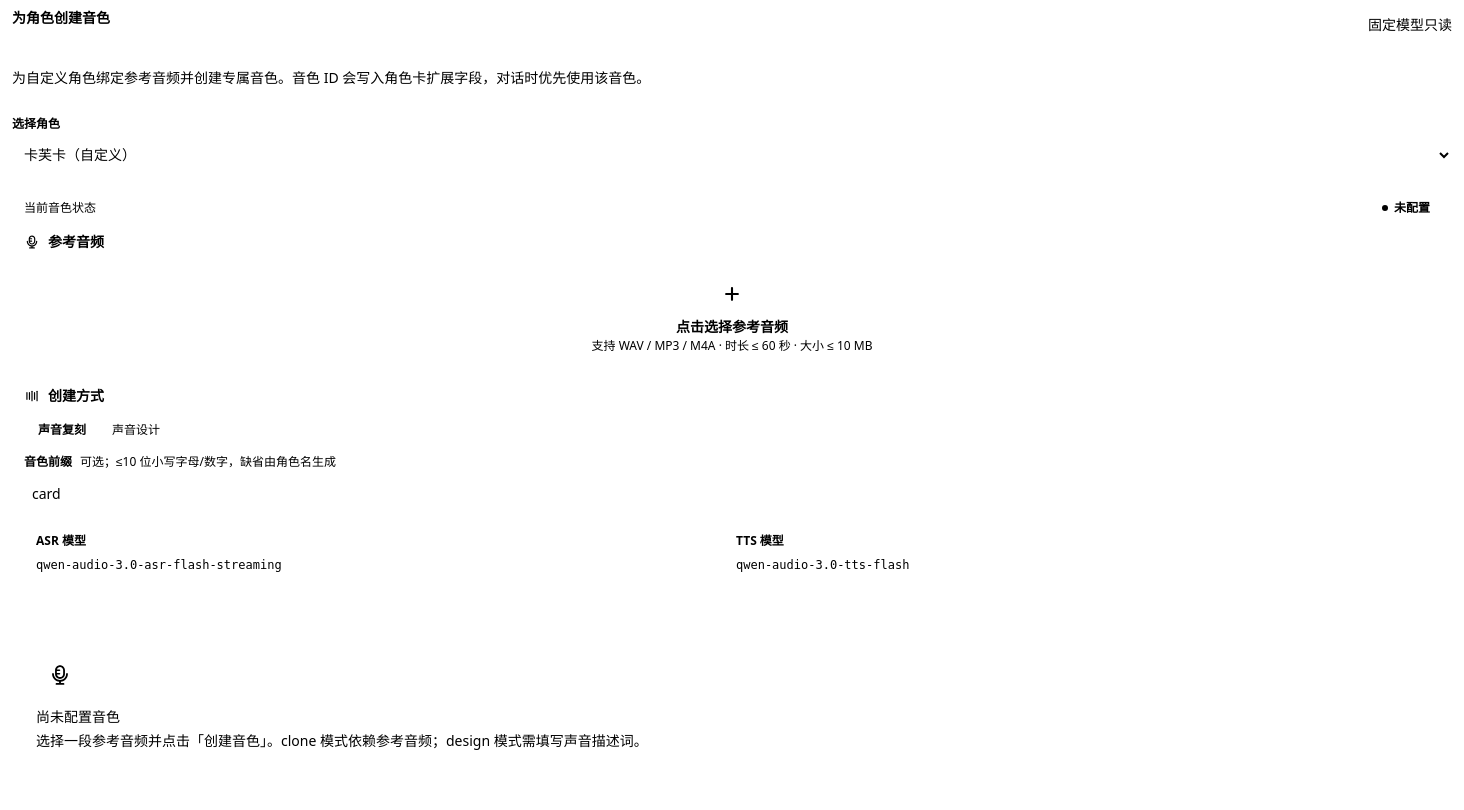
Test case: CharacterVoiceSection › 选择参考音频后经 voice.card_bind_reference 绑定并显示资产 ID
Expected: the field with test id "prefix-input" holds "card", [24,476,1440,510]
Click the button with test id "pick-reference-btn": (732, 317) [24,260,1440,374]
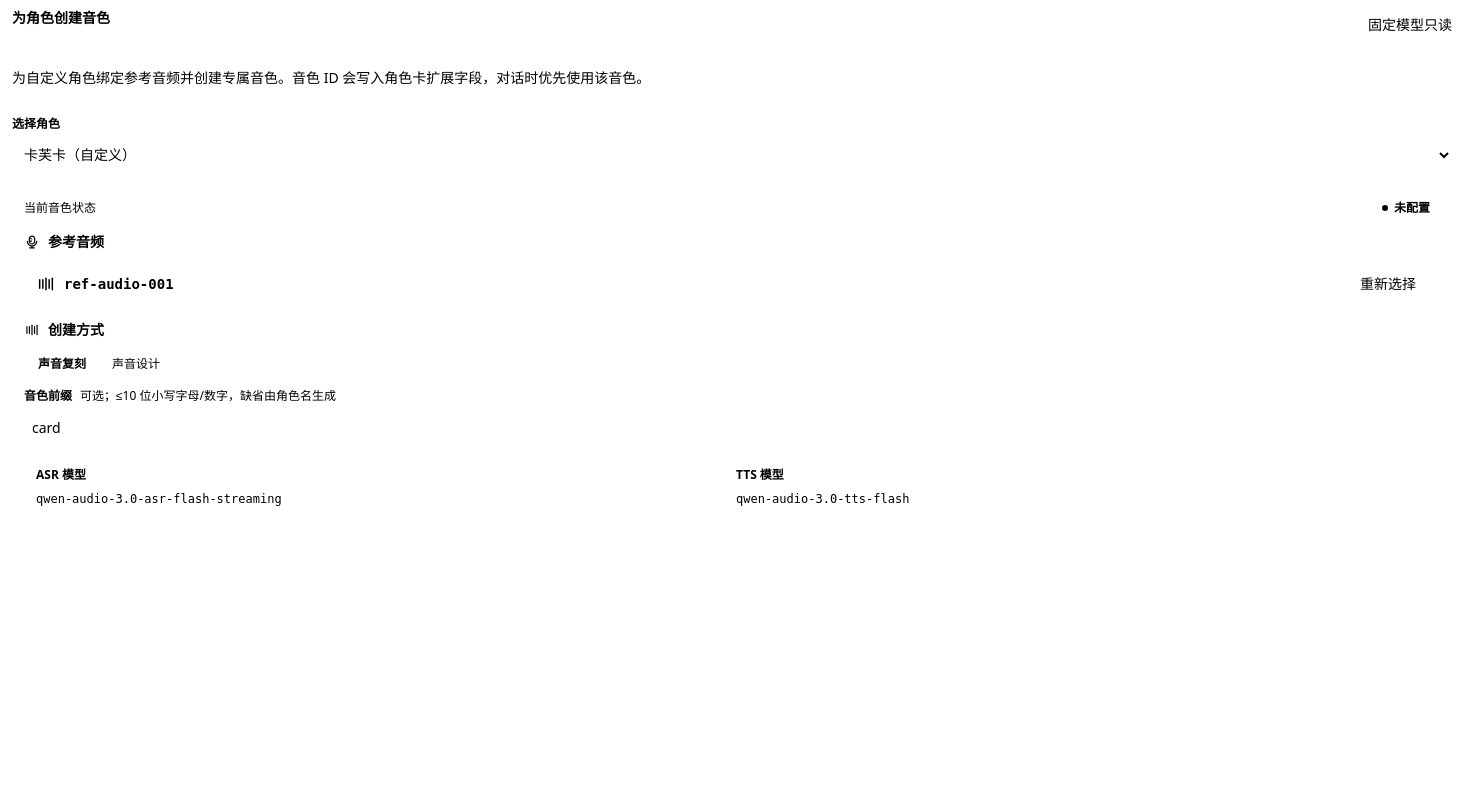
Result: the button with test id "replace-reference-btn" is shown at [1348,268,1428,300]
Result: the element with test id "reference-audio-section" shows "ref-audio-001" at [64,276,174,292]
Result: the message with test id "voice-state-unconfigured" is gone
